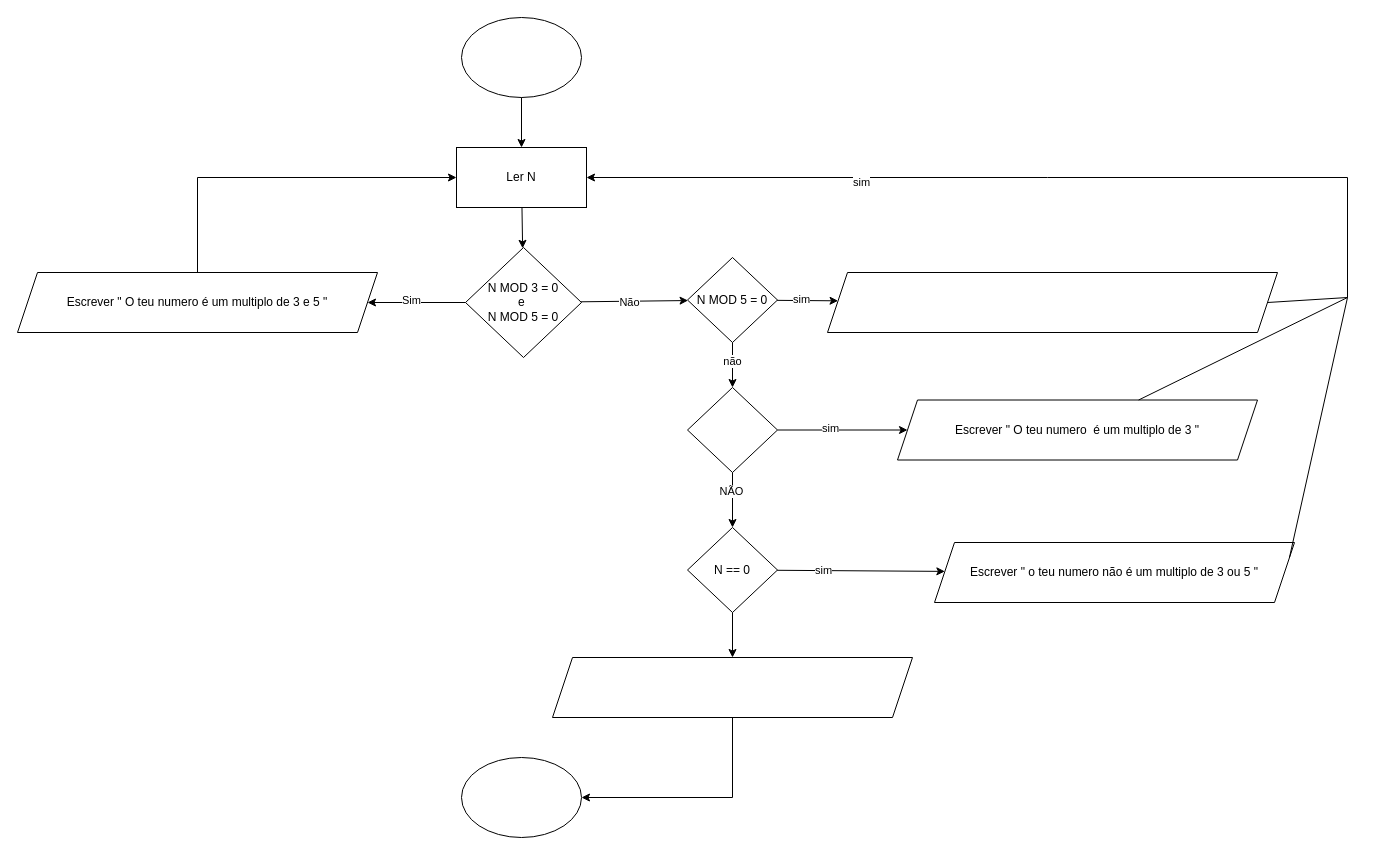
This 1373x855 diagram has some shape labels left out. The centre of each missing label's shape, as x and y in pixels:
Escrever " O teu numero é um multiplo de 5": point 1052,302
Escrever"o teu numero é zero BUG A DESLIGAR SISTEMA": point 732,687
N MOD 3 = 0: point 732,429
